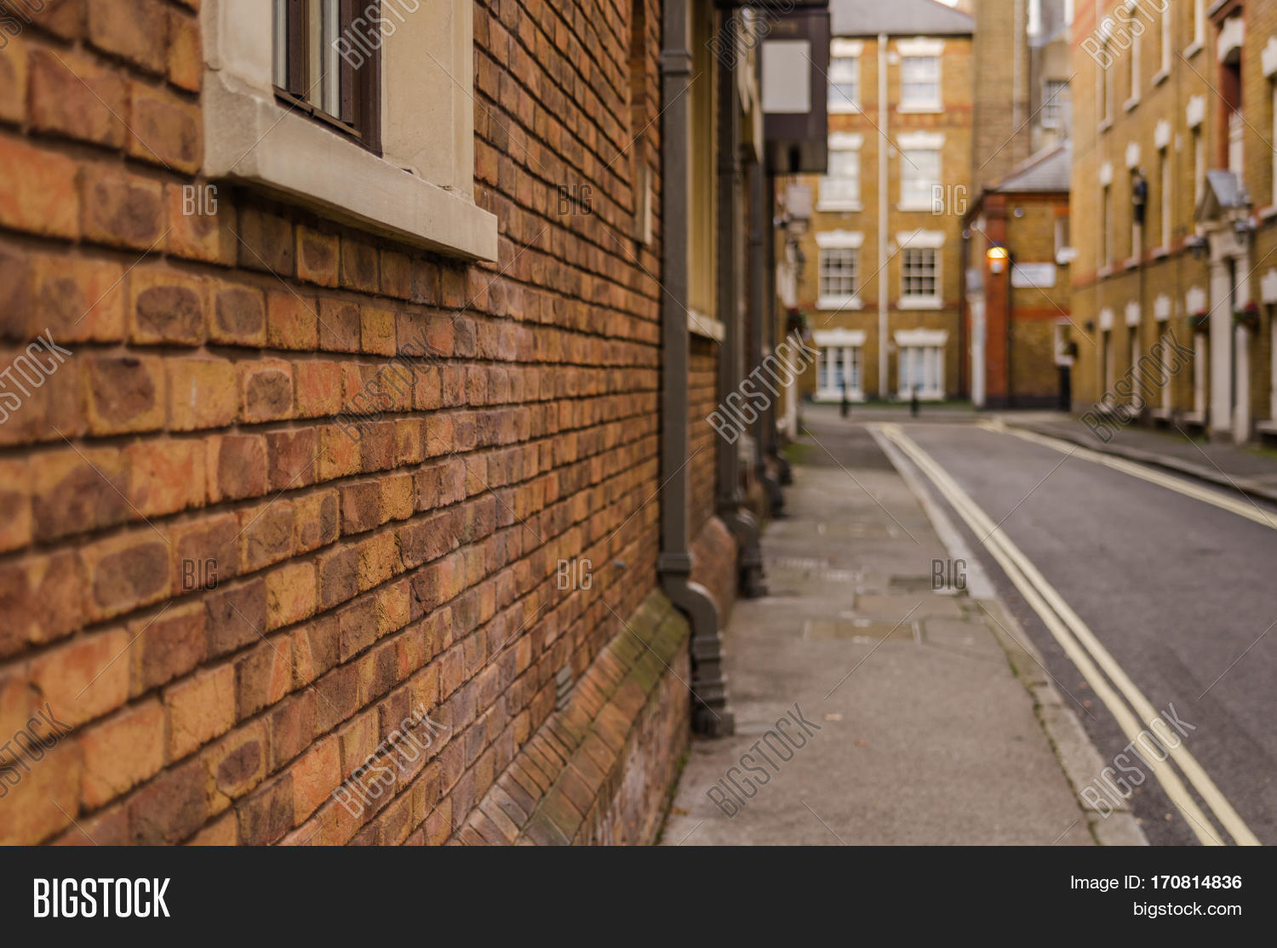Wall: (5, 206, 654, 829)
